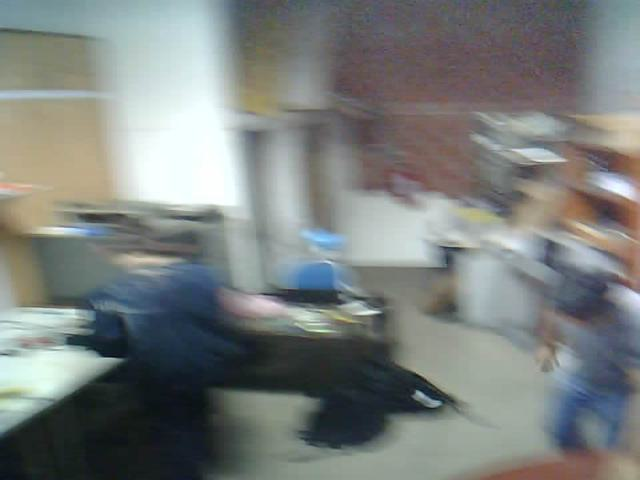person: (73, 205, 280, 480), (536, 266, 640, 470)
